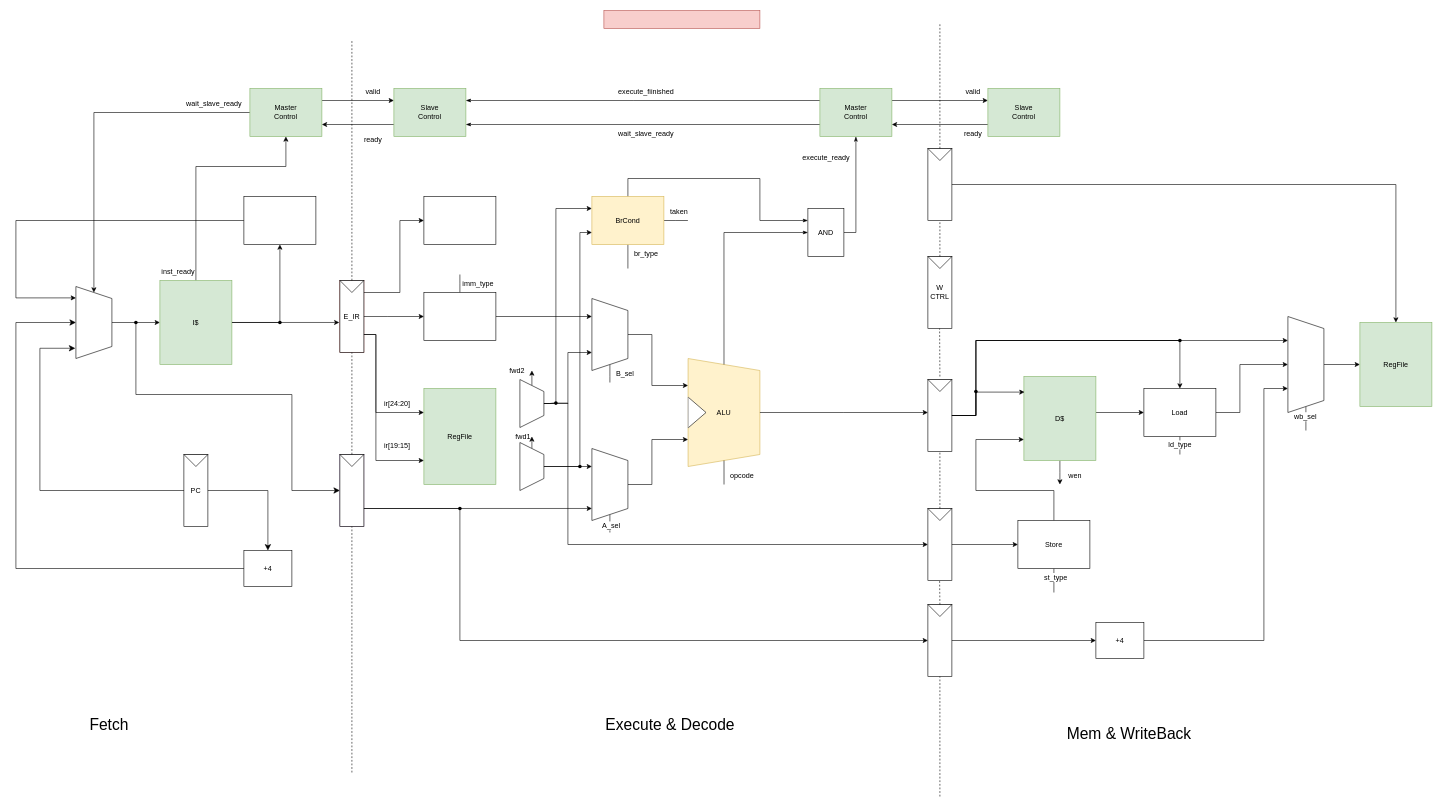
Some shapes in this 1442 by 808 pixel diagram are drawn without their labels. The box of each missing label's shape, as (x1, y1, x2, y2) in pixels:
BPU: (243, 196, 316, 244)
Decode: (423, 196, 496, 244)
E_PC: (339, 454, 364, 526)
Imm Gen: (423, 292, 496, 340)
taken信号传给第一级流水线，修正分支预测?: (603, 10, 760, 28)
W _ALU: (927, 379, 952, 452)
W_ WDATA: (927, 508, 952, 580)
W_IR: (927, 148, 952, 220)
W_PC: (927, 604, 952, 676)
